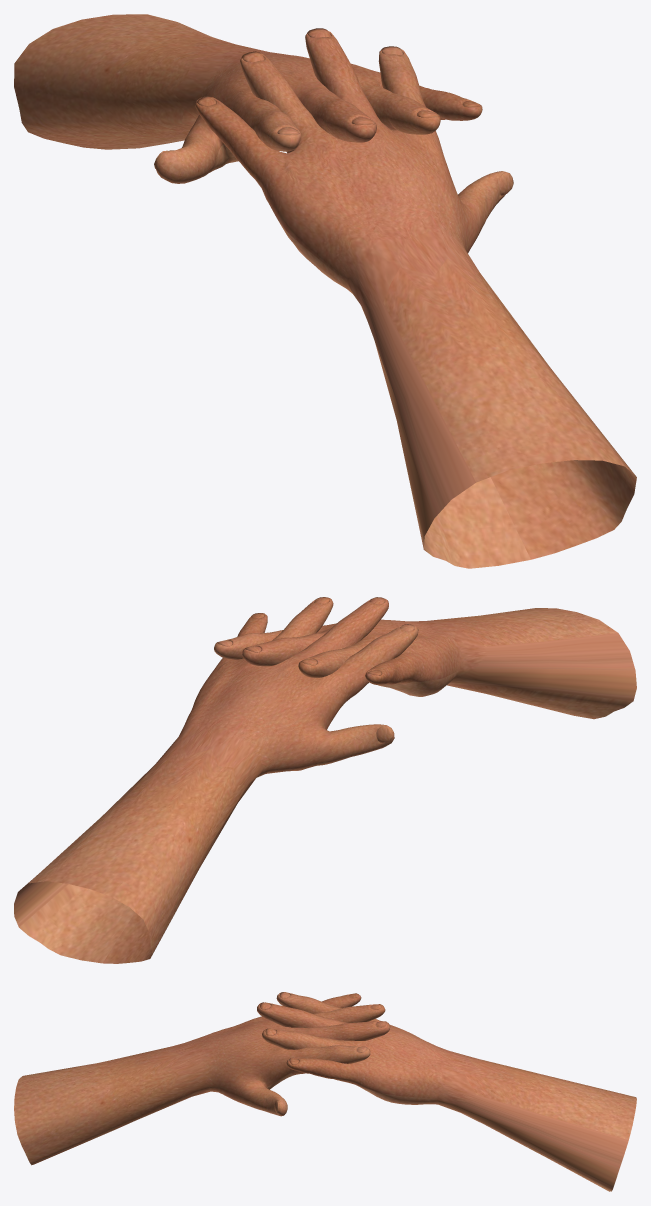
File: hands_000130.obj
3 renders of one model, top to bottom at view 1: azimuth 30°, elevation 25°; view 2: azimuth 150°, elevation 25°; view 3: azimuth 270°, elevation 25°, orthographic. The views are drawn at different scales.
Visible parts, largest first — view 1: hand.001_Mesh.001, hand_Mesh; view 2: hand_Mesh, hand.001_Mesh.001; view 3: hand_Mesh, hand.001_Mesh.001.
Part boxes in pixels (<box>): hand.001_Mesh.001: <box>195,28,636,568</box>; hand_Mesh: <box>14,14,482,183</box>; hand_Mesh: <box>14,597,418,963</box>; hand.001_Mesh.001: <box>214,608,636,719</box>; hand_Mesh: <box>257,992,636,1191</box>; hand.001_Mesh.001: <box>14,993,390,1165</box>.
Bounding box in the file's own units: 1.62 × 1.41 × 5.
1 material, 1 textured.
